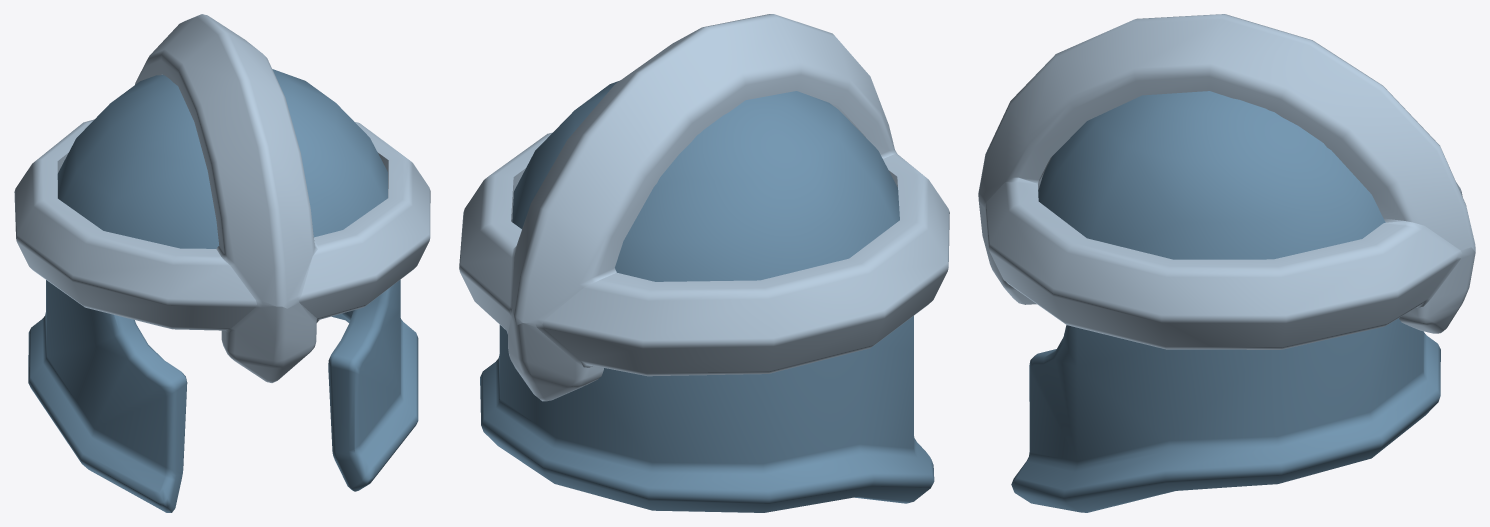
The picture shows the model from 3 angles, left to right: view 1: azimuth 30°, elevation 25°; view 2: azimuth 150°, elevation 25°; view 3: azimuth 270°, elevation 25°; orthographic projection. The views are drawn at different scales.
Parts seen in each view (by area): view 1: model_1.035; view 2: model_1.035; view 3: model_1.035.
Boxes of the visible parts, x1,y1,x2,y2 form: model_1.035: (14, 14, 430, 512); model_1.035: (459, 14, 949, 512); model_1.035: (978, 14, 1475, 512).
Bounding box in the file's own units: 3.8 × 4.12 × 4.02.
